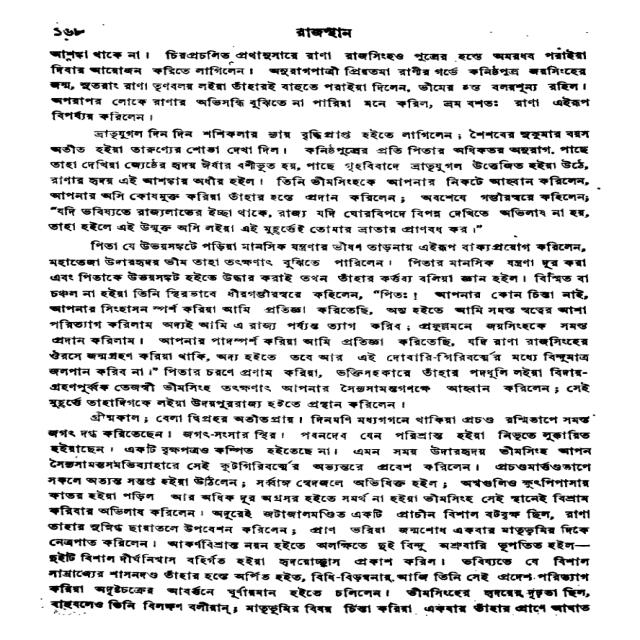page number: (47, 23, 89, 41)
paragraph: (47, 413, 594, 621), (45, 237, 591, 412), (46, 126, 591, 237), (45, 46, 588, 125)
text: (289, 24, 357, 41)
